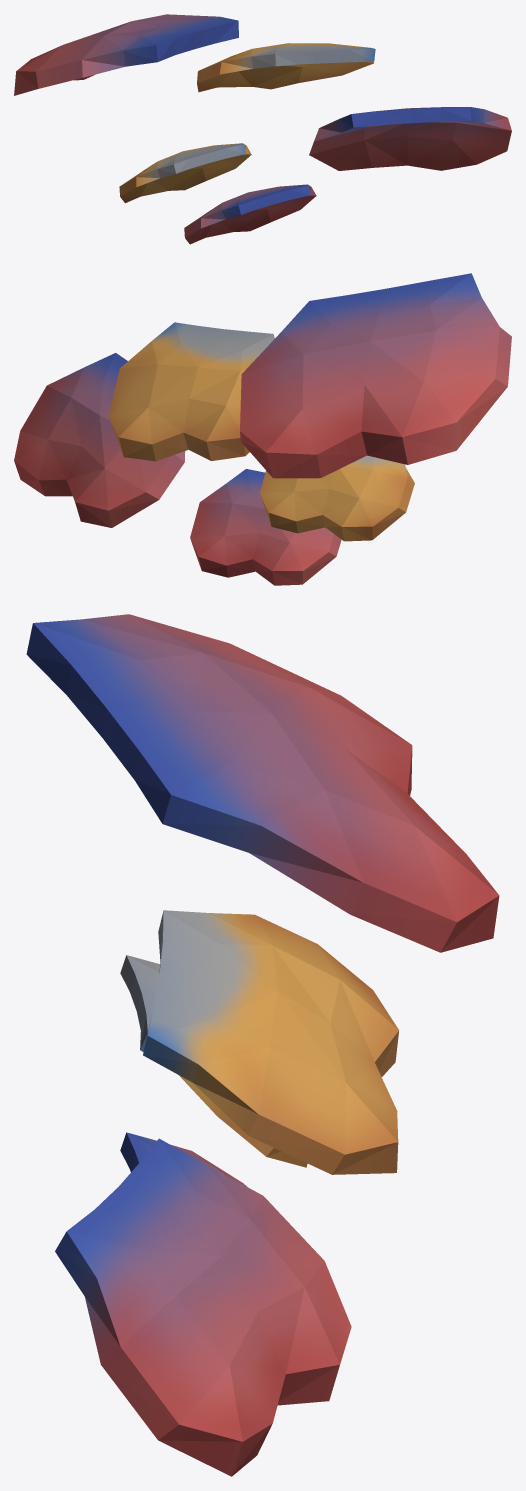
The model's file is Coral_04.FBX.
3 renders of one model, top to bottom at view 1: azimuth 30°, elevation 25°; view 2: azimuth 150°, elevation 25°; view 3: azimuth 270°, elevation 25°, orthographic. The views are drawn at different scales.
Visible parts, largest first — view 1: Coral_004; view 2: Coral_004; view 3: Coral_004.
Part boxes in pixels (x1,y1,x2,y2): Coral_004: (14, 14, 511, 244); Coral_004: (14, 273, 511, 585); Coral_004: (26, 614, 499, 1476).
Size of the model in its own units: 9.57 by 5.45 by 4.26.
